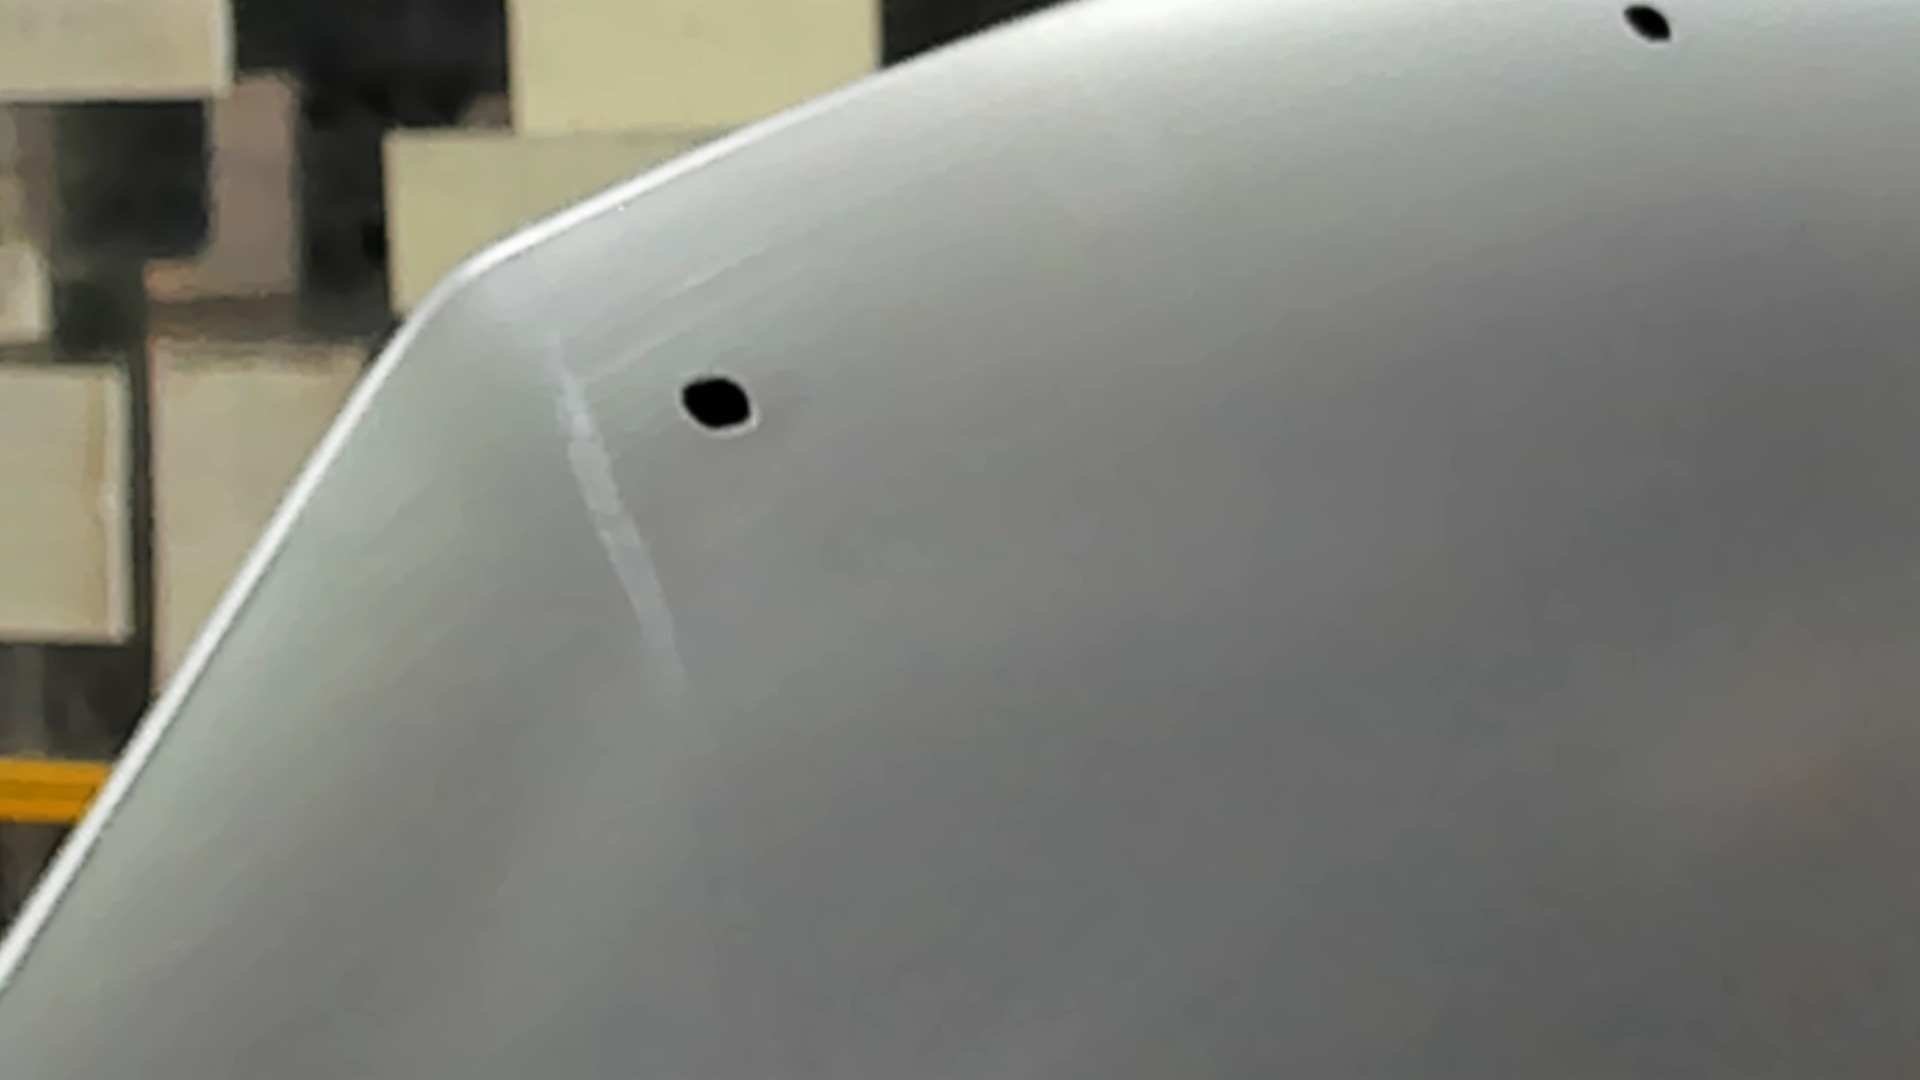amorfo: (673, 360, 760, 446), (1618, 1, 1679, 55)
